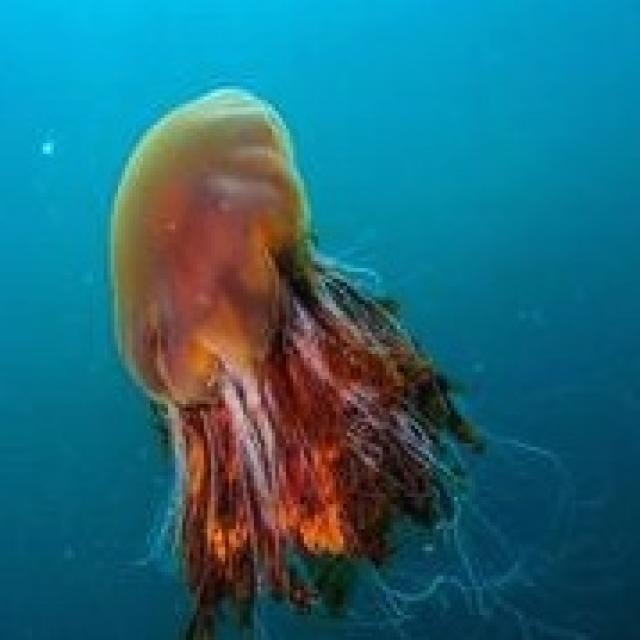Human: (104, 83, 486, 636)
